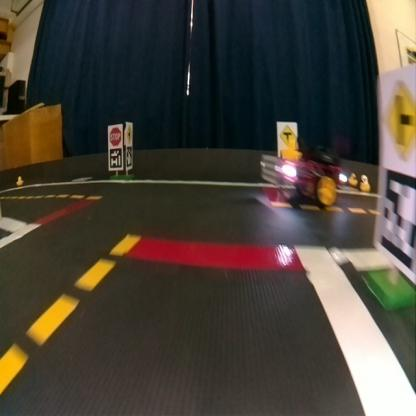Duckie: (361, 173, 370, 191), (348, 172, 356, 186), (16, 177, 22, 185)
Duckiebot: (260, 148, 340, 206)
Intersection sign: (384, 81, 414, 160), (279, 126, 296, 148), (127, 124, 132, 141)
QR code: (379, 169, 412, 272), (108, 149, 122, 168), (126, 148, 132, 166)
Stop sign: (108, 127, 120, 146)
